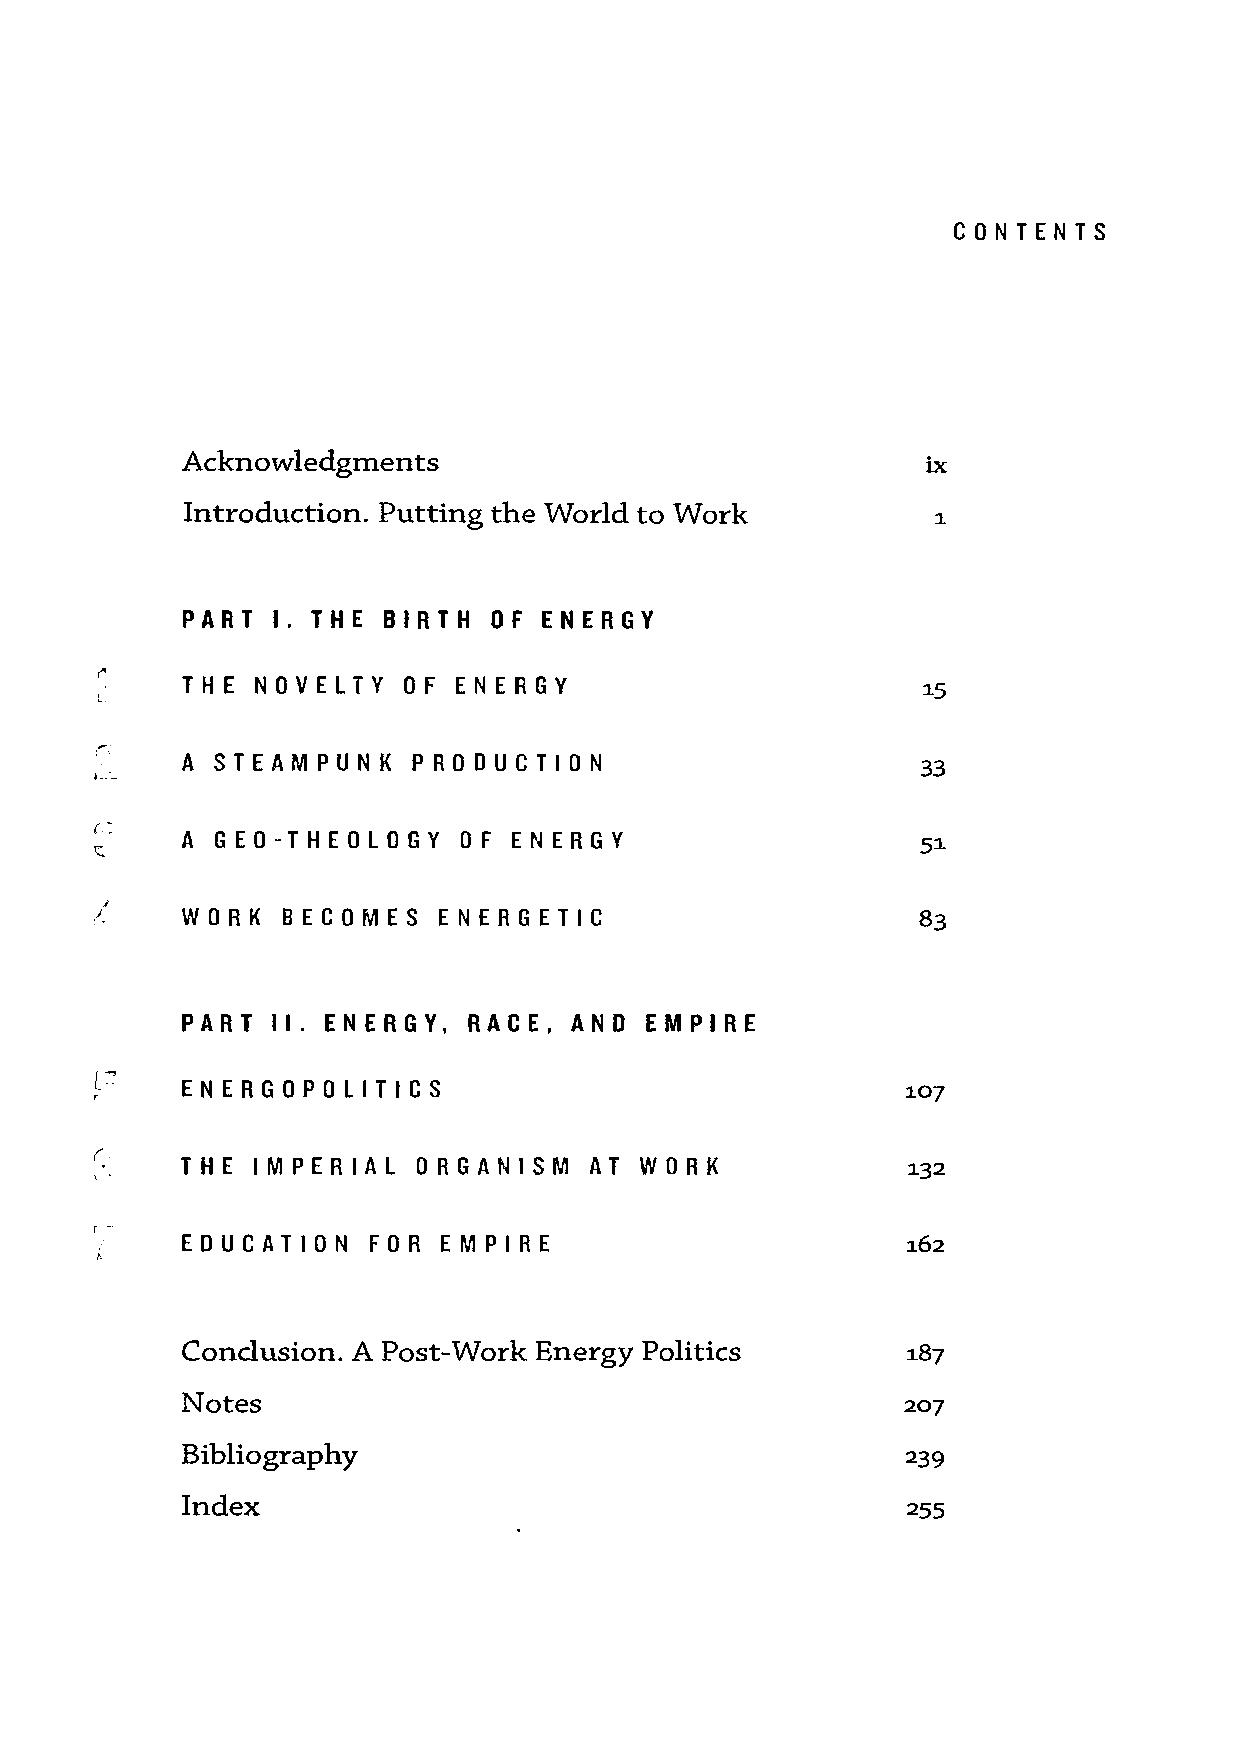TOC_chapter: (181, 498, 753, 529), (177, 1337, 743, 1368), (178, 739, 607, 777), (177, 1150, 721, 1180), (183, 823, 625, 858), (178, 601, 654, 633), (178, 1011, 760, 1035), (178, 900, 611, 930), (177, 666, 570, 697), (177, 1231, 554, 1255), (176, 1071, 446, 1102), (178, 447, 443, 478), (174, 1439, 362, 1474), (181, 1386, 264, 1417), (178, 1491, 263, 1520)
TOC_pagenumber: (905, 1231, 947, 1257), (905, 1445, 945, 1474), (906, 1341, 945, 1369), (905, 1154, 947, 1180), (914, 905, 947, 937), (902, 1394, 947, 1417), (905, 1496, 947, 1520), (902, 1082, 946, 1104), (918, 671, 951, 701), (917, 753, 947, 781), (921, 832, 947, 858), (922, 451, 947, 475), (931, 509, 949, 527)
chapter: (949, 216, 1108, 242)
